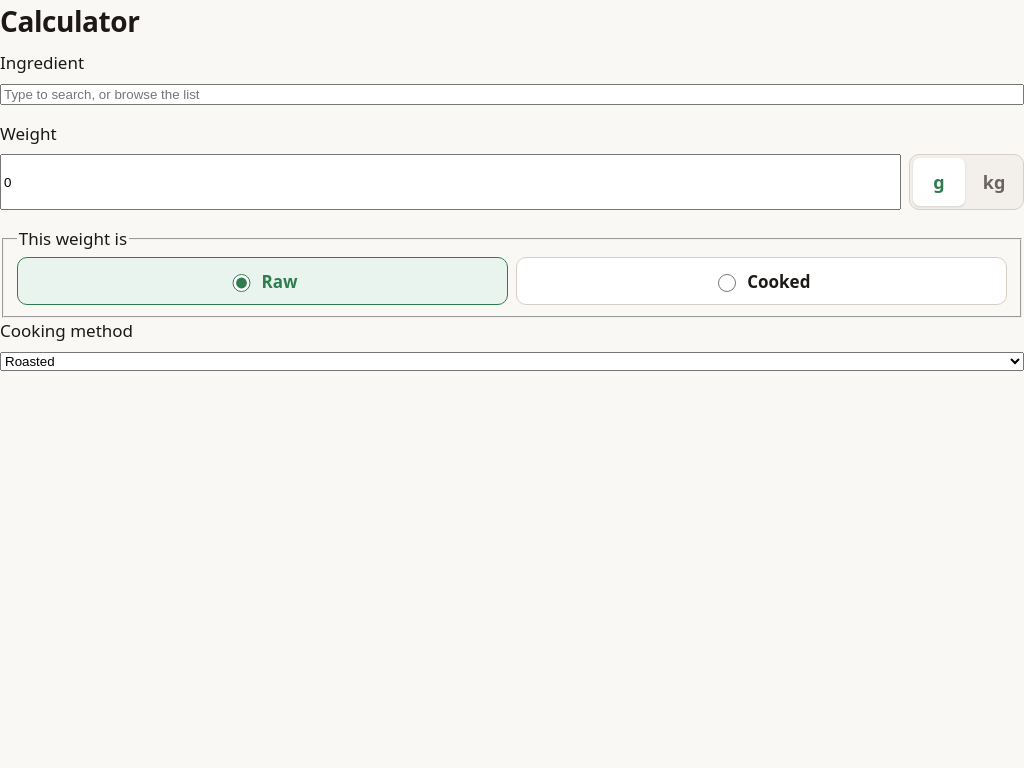
Test: CalcScreen › shows the raw weight when the entered weight is cooked
The width and height of the screenshot is (1024, 768).
Type "Chicken breast" into the dropdown labelled "Ingredient".
click(512, 94); type("Chicken breast")  # box [0,84,1023,104]
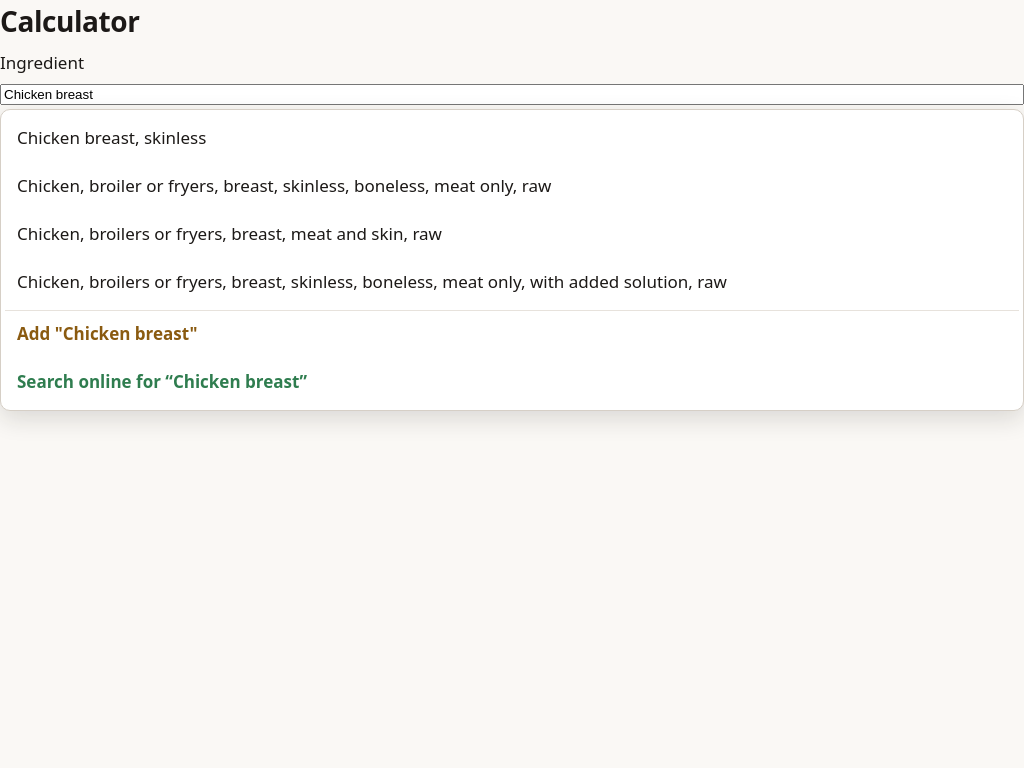
Press the mouse on the option "Chicken breast, skinless" at (112, 137), box [17,126,206,149]
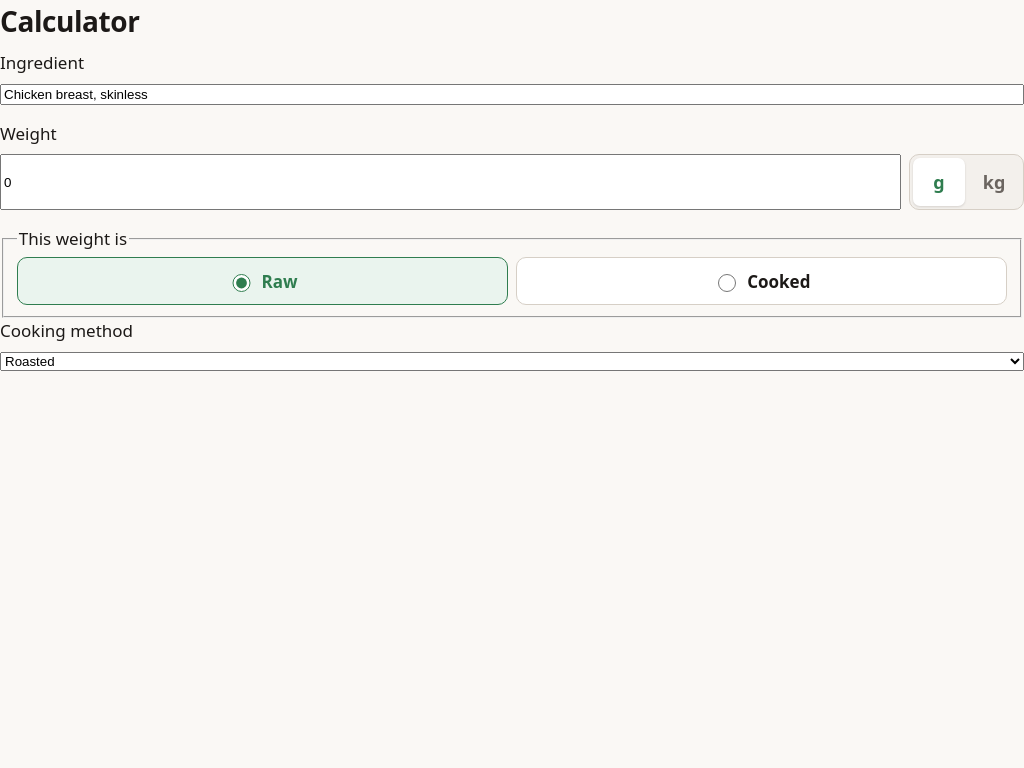
Replace the text in the number field labelled "Weight" with "1000" at (450, 182), box [0,154,901,210]
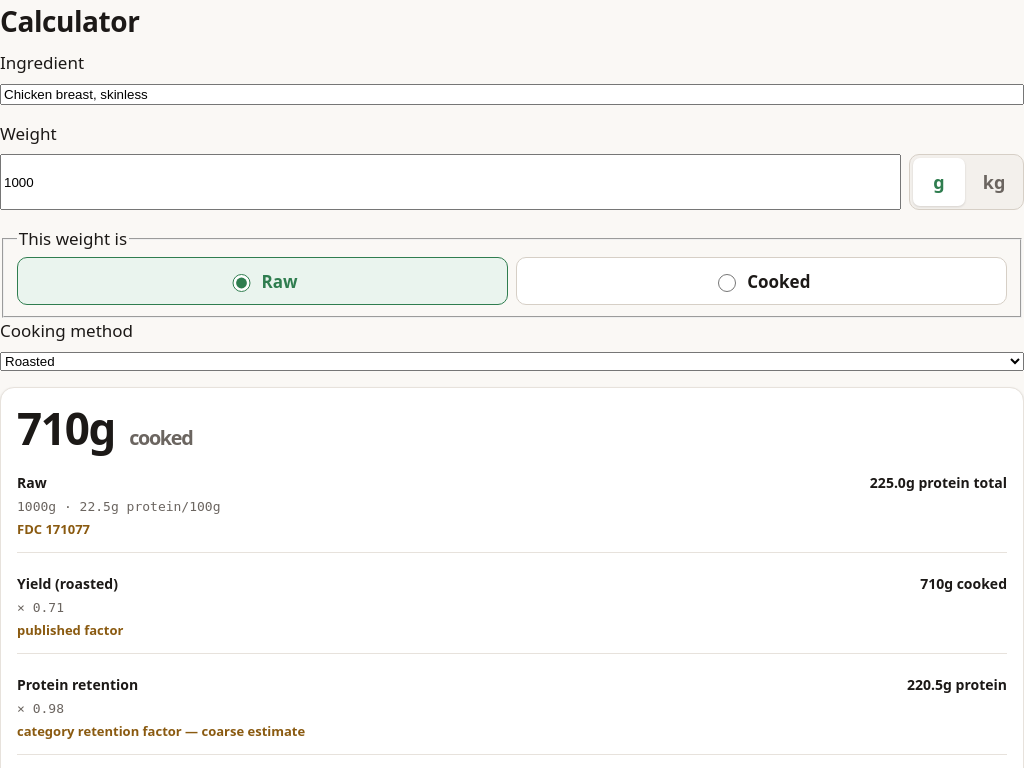
Select "Roasted" in the dropdown labelled "Cooking method" at (512, 361), box [0,352,1023,371]
Click the radio button labelled "cooked".
click(727, 283)  # box [718,274,736,292]
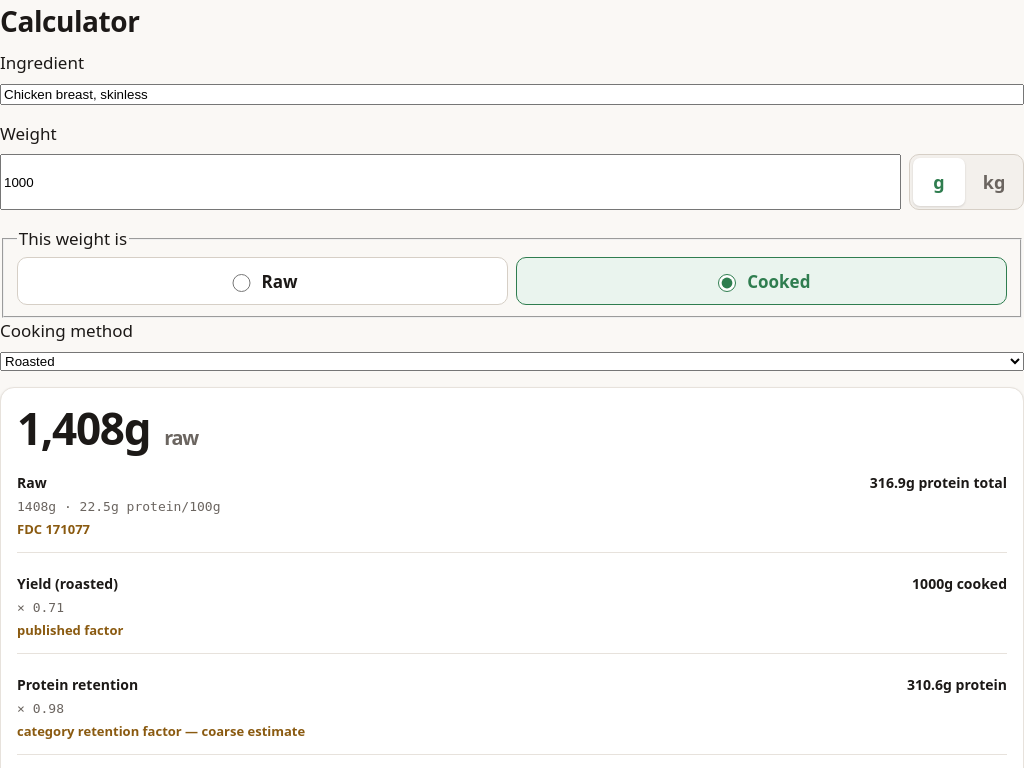
Now the element with test id "result-weight" shows "1,408", box [17,398,124,458]
